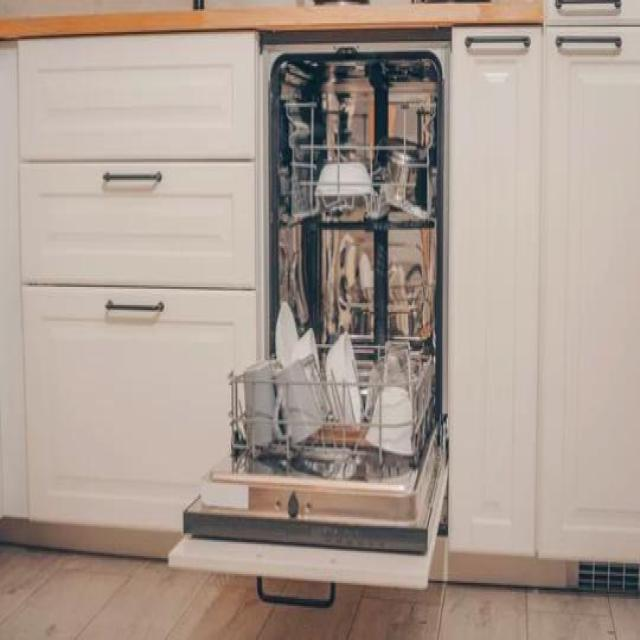dishwasher: (169, 32, 460, 620)
